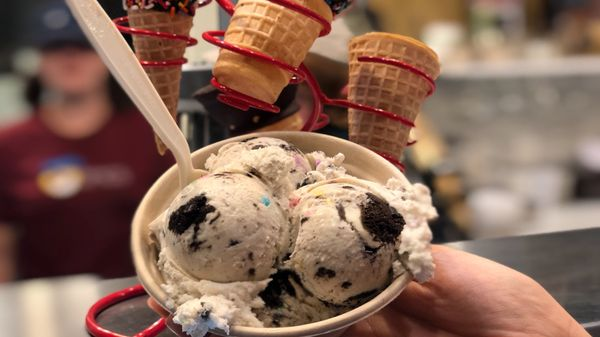pizza: (112, 1, 197, 121)
